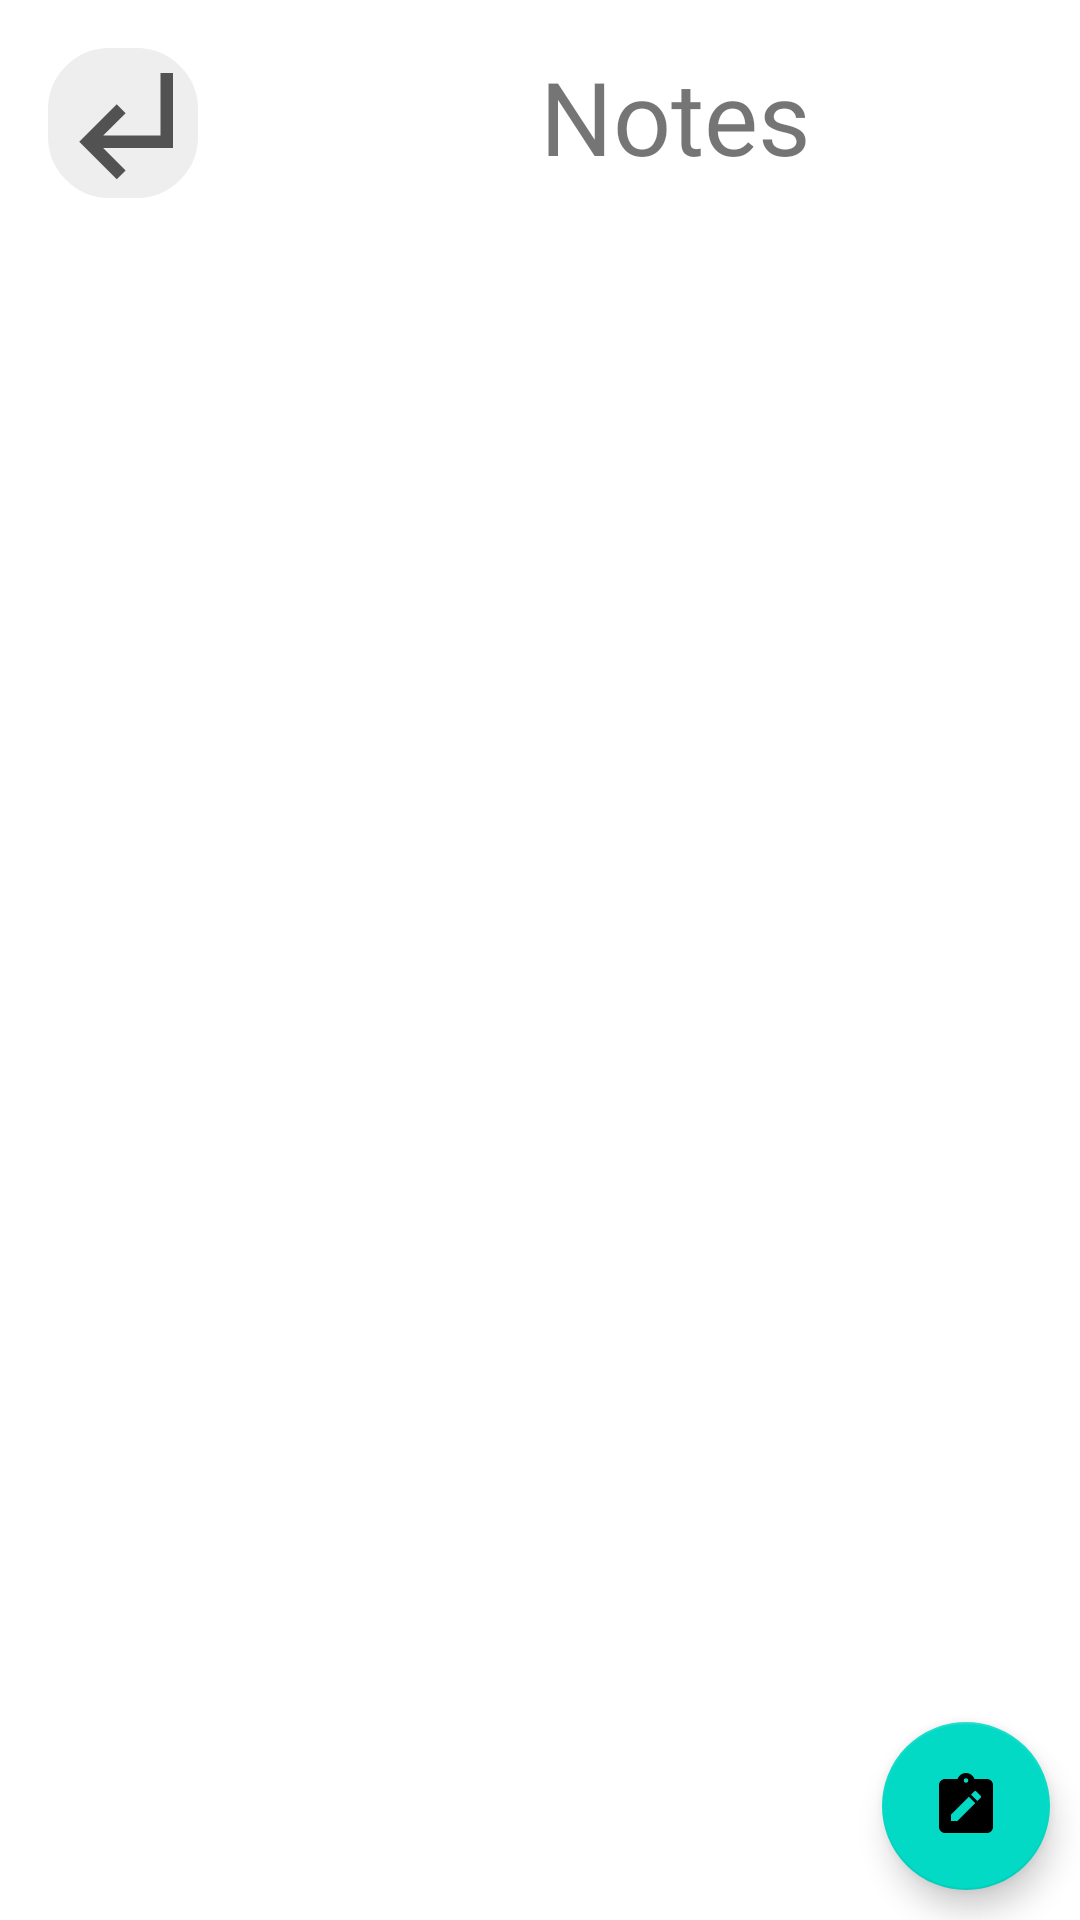

Icons on this 1080px×1920px Android screen, each with the point to tap as (x=x, y=y):
note: (x=966, y=1806)
subdirectory arrow left: (x=123, y=123)
